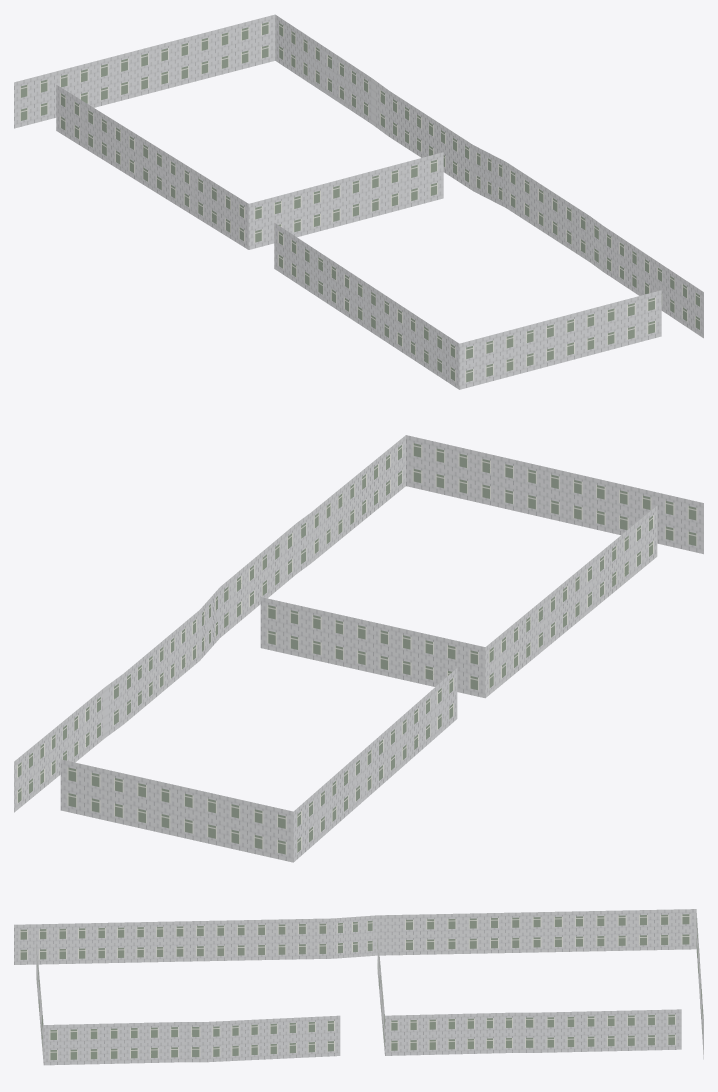
3 renders of one model, top to bottom at view 1: azimuth 30°, elevation 25°; view 2: azimuth 150°, elevation 25°; view 3: azimuth 270°, elevation 25°, orthographic. The views are drawn at different scales.
Bounding box in the file's own units: 41 × 6 × 93.
4 materials, 3 textured.
